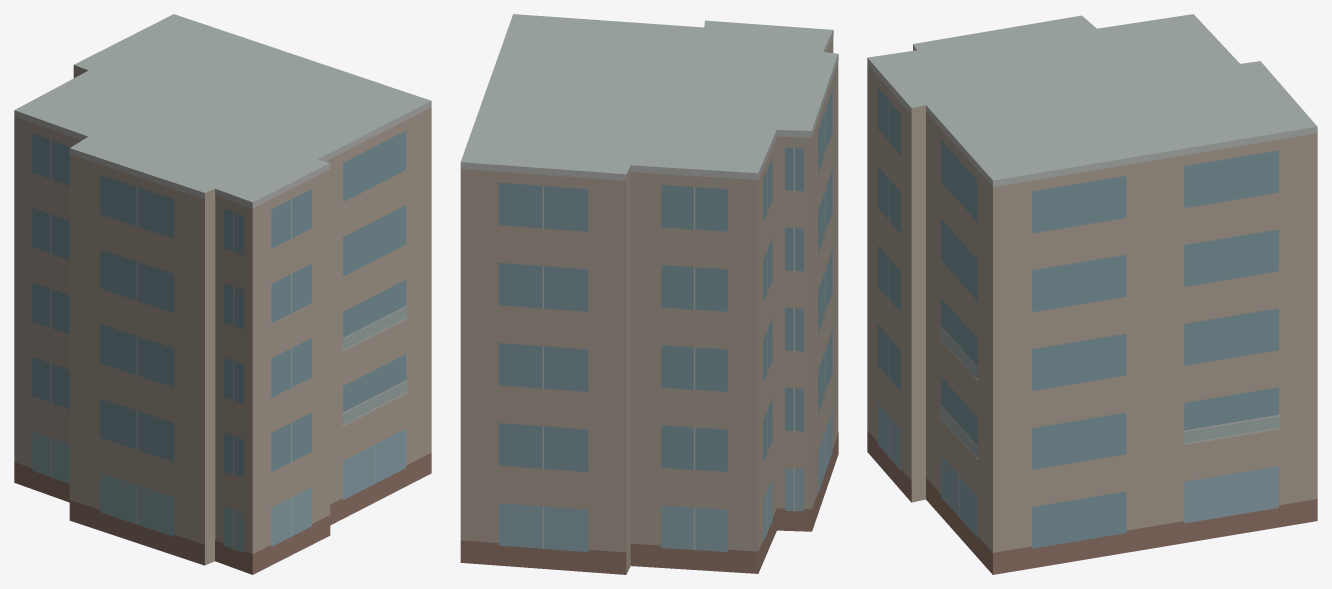
The model's file is survey-upis-32852107.glb.
The picture shows the model from 3 angles, left to right: view 1: azimuth 30°, elevation 25°; view 2: azimuth 150°, elevation 25°; view 3: azimuth 270°, elevation 25°; orthographic projection. The views are drawn at different scales.
Visible parts, largest first — view 1: survey-upis-32852107.tmp; view 2: survey-upis-32852107.tmp; view 3: survey-upis-32852107.tmp.
Boxes of the visible parts, left/top/right/bottom form: survey-upis-32852107.tmp: left=14, top=14, right=431, bottom=574; survey-upis-32852107.tmp: left=460, top=14, right=838, bottom=574; survey-upis-32852107.tmp: left=867, top=14, right=1317, bottom=574.
Size of the model in its own units: 13.15 by 14.5 by 15.02.
